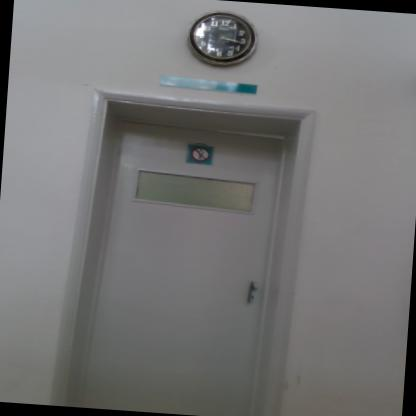closed: (60, 81, 338, 415)
